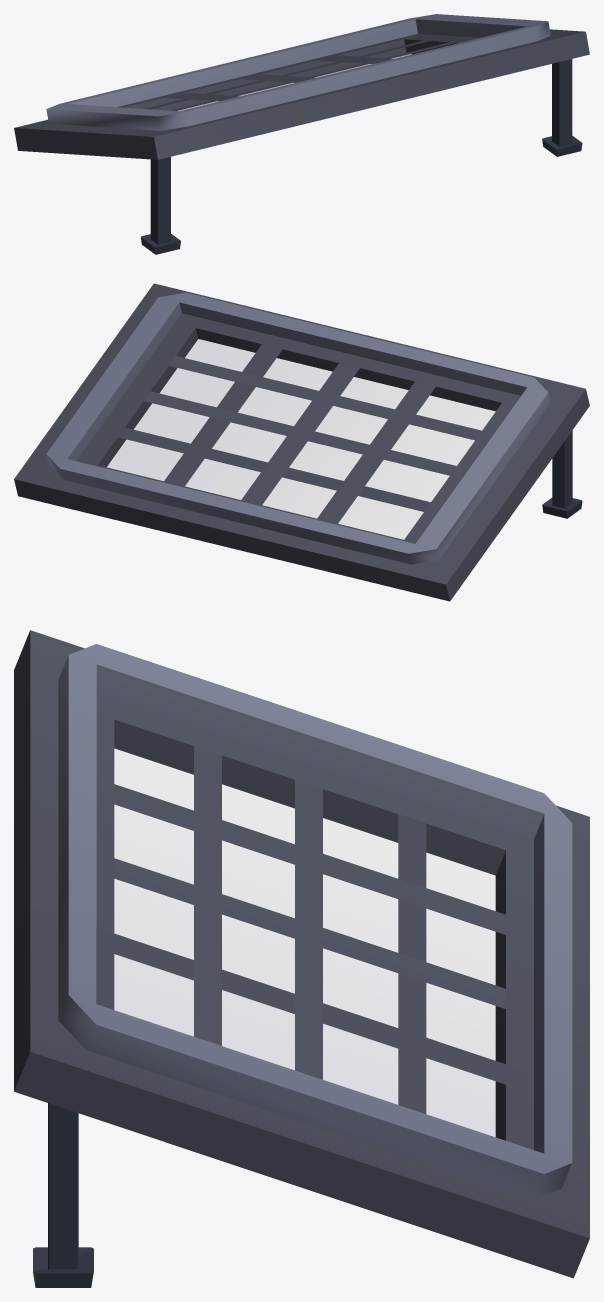
File: sun_power.glb
3 renders of one model, top to bottom at view 1: azimuth 30°, elevation 25°; view 2: azimuth 150°, elevation 25°; view 3: azimuth 270°, elevation 25°, orthographic. The views are drawn at different scales.
Visible parts, largest first — view 1: 立方体; view 2: 立方体; view 3: 立方体.
Part boxes in pixels (x1,y1,x2,y2): 立方体: (14, 14, 589, 254); 立方体: (14, 283, 589, 601); 立方体: (14, 630, 589, 1287).
Size of the model in its own units: 0.669 by 0.189 by 0.3863.
2 materials, 1 textured.
